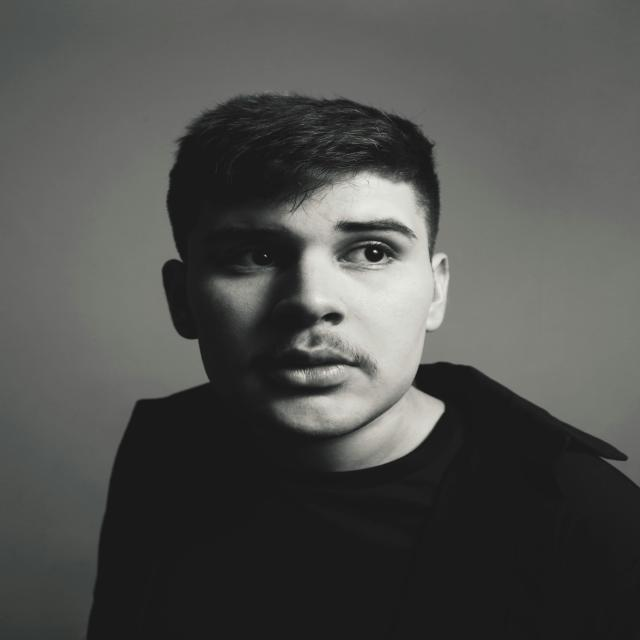human: (74, 87, 640, 640)
